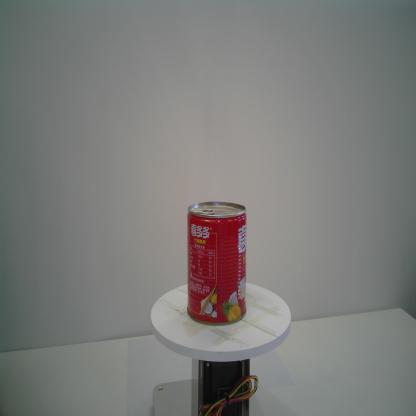Canned Food: (186, 200, 247, 328)
